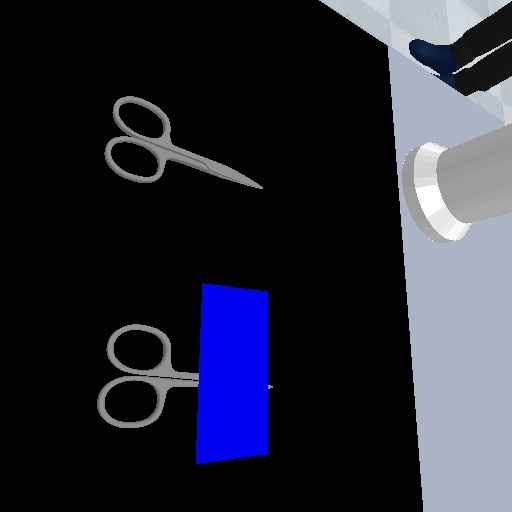tijera: (101, 92, 266, 196), (91, 320, 200, 431)
